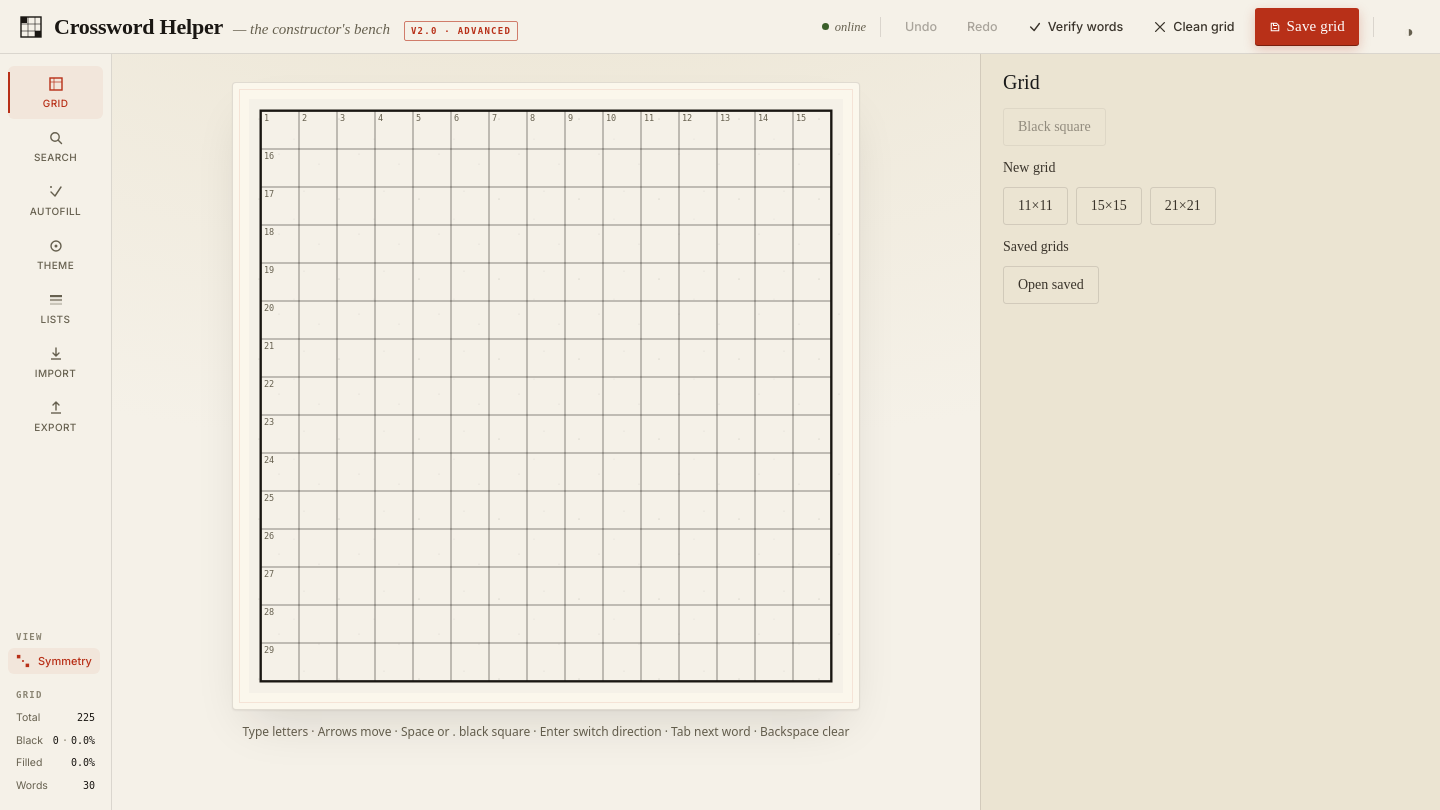
Test: App handleThemeWordApplied (Task 6.16) › control: a reply for the current document is merged and toasted
Click the button "Theme" at x=56, y=254, box [8,228,103,281]
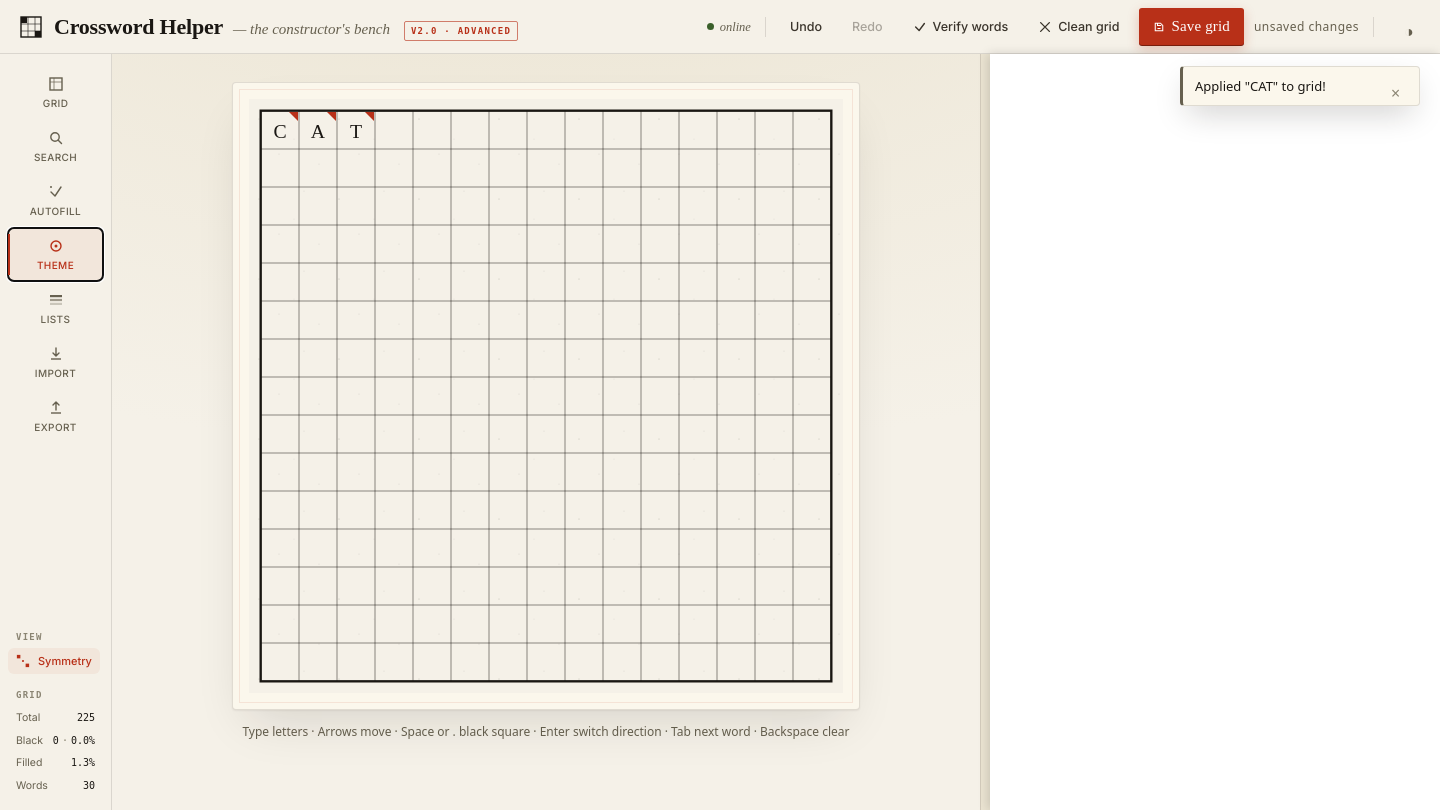
Now the text "Applied \"CAT\" to grid!" is shown, box [1195,77,1326,95]
